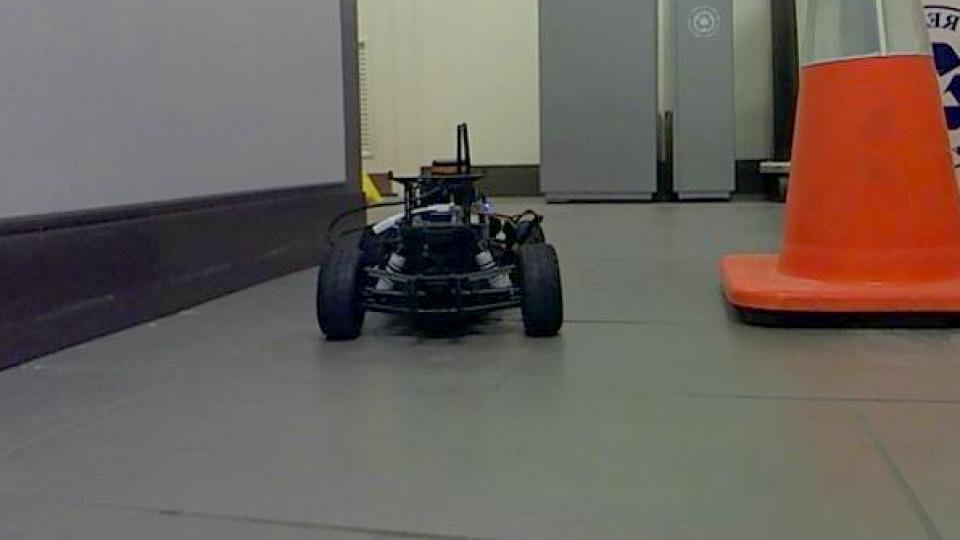car: (313, 121, 568, 344)
